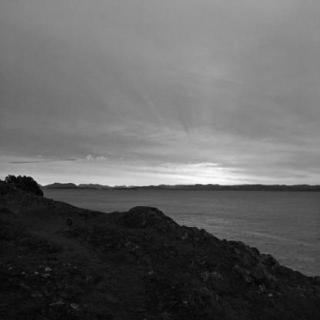other: (144, 153, 268, 195)
